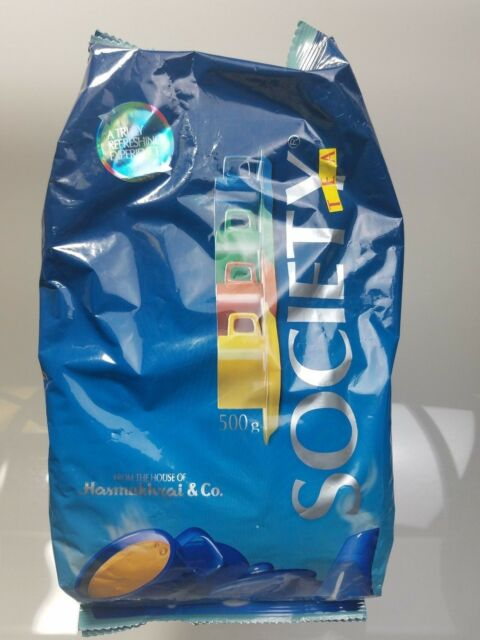society: (37, 40, 405, 617)
